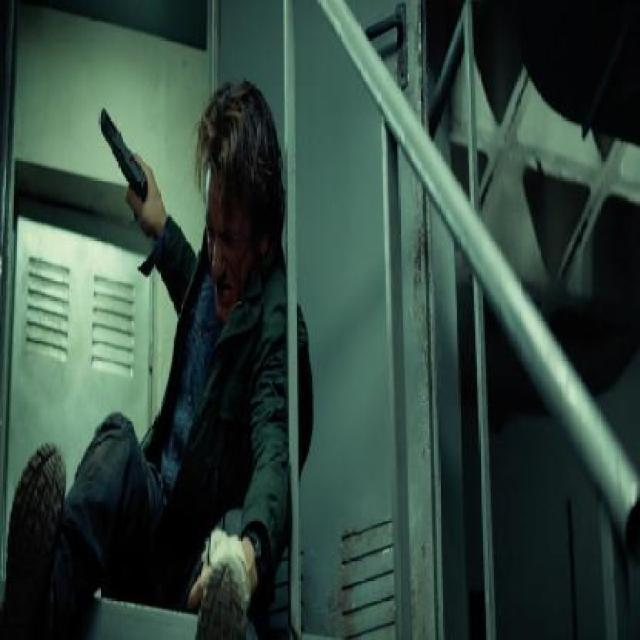gun: (90, 58, 162, 255)
